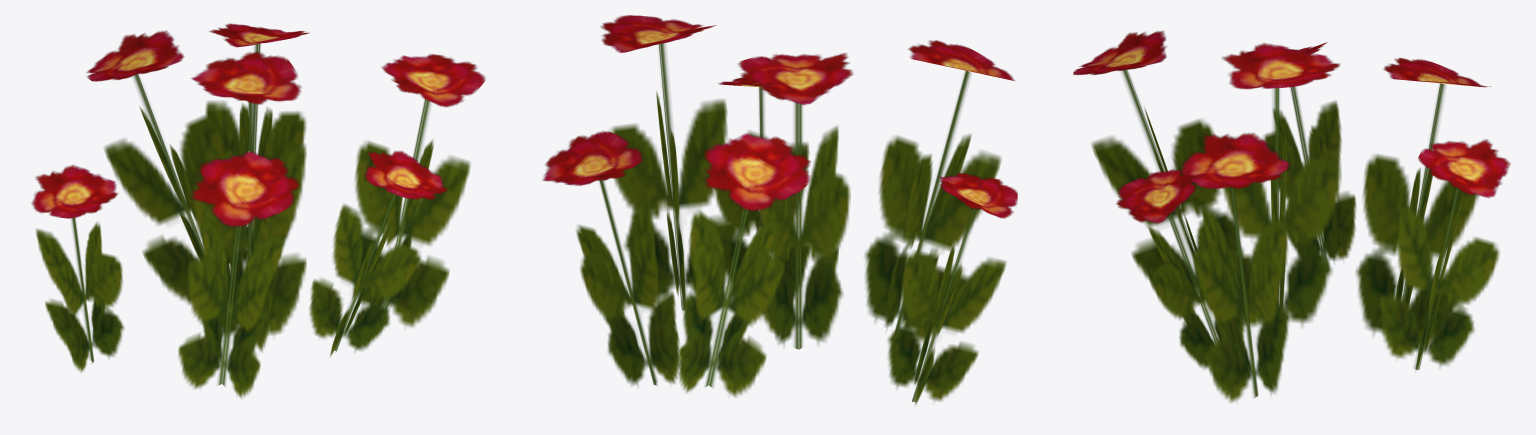
3 views of the same model, side by side, from view 1: azimuth 30°, elevation 25°; view 2: azimuth 150°, elevation 25°; view 3: azimuth 270°, elevation 25° (orthographic). The views are drawn at different scales.
Parts seen in each view (by area): view 1: um_t1_pl018_model_t1_pl018_modelShape; view 2: um_t1_pl018_model_t1_pl018_modelShape; view 3: um_t1_pl018_model_t1_pl018_modelShape.
Part boxes in pixels (<box>): um_t1_pl018_model_t1_pl018_modelShape: <box>31,23,485,398</box>; um_t1_pl018_model_t1_pl018_modelShape: <box>542,15,1017,405</box>; um_t1_pl018_model_t1_pl018_modelShape: <box>1073,31,1510,402</box>.
Bounding box in the file's own units: 0.649 × 0.4066 × 0.5662.
1 material, 1 textured.
